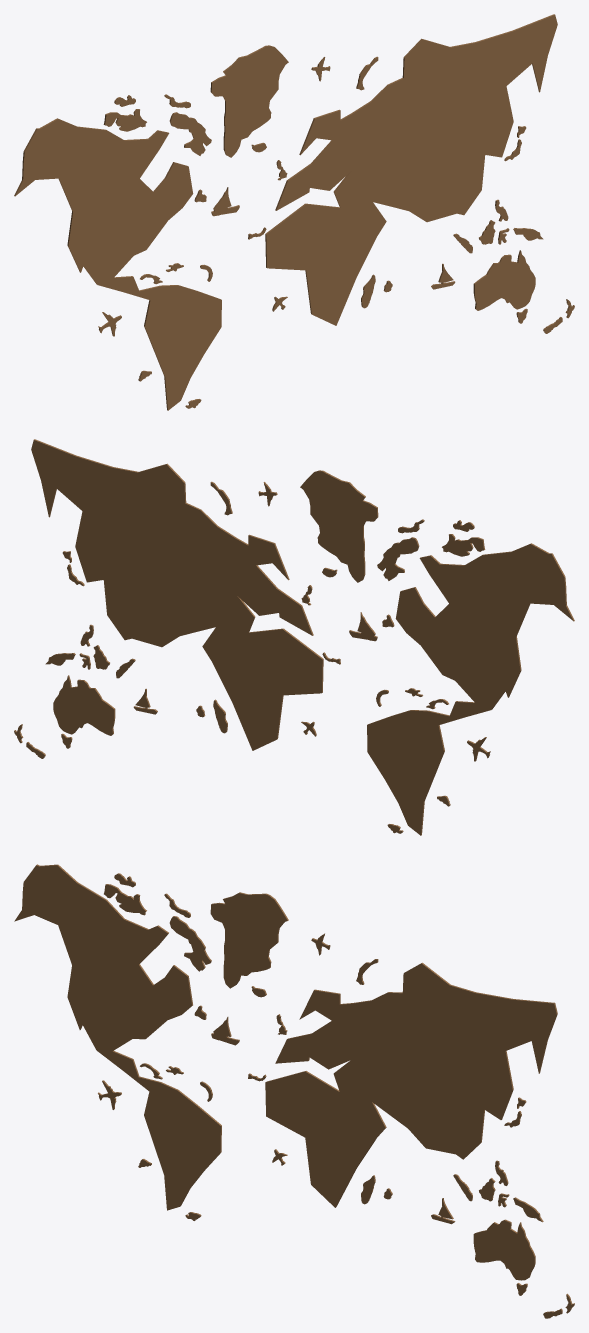
File: edsSignage-3.glb
The picture shows the model from 3 angles, top to bottom: view 1: azimuth 30°, elevation 25°; view 2: azimuth 150°, elevation 25°; view 3: azimuth 330°, elevation 25°; orthographic projection.
Parts seen in each view (by area): view 1: eds-world-map/map-natural-plywood-edge; view 2: eds-world-map/map-natural-plywood-edge; view 3: eds-world-map/map-natural-plywood-edge.
Boxes of the visible parts, x1,y1,x2,y2 form: eds-world-map/map-natural-plywood-edge: [14, 14, 574, 410]; eds-world-map/map-natural-plywood-edge: [14, 439, 574, 835]; eds-world-map/map-natural-plywood-edge: [14, 864, 574, 1318].
Bounding box in the file's own units: 3.03 × 1.84 × 0.00998.
